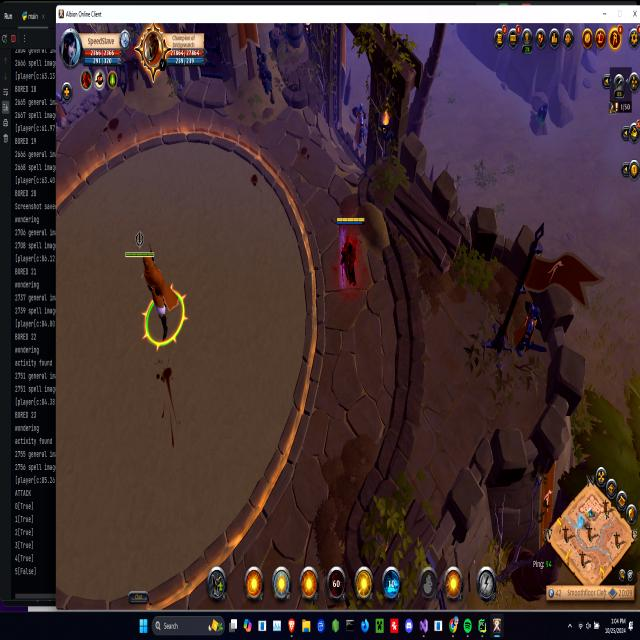red: (334, 212, 365, 290)
